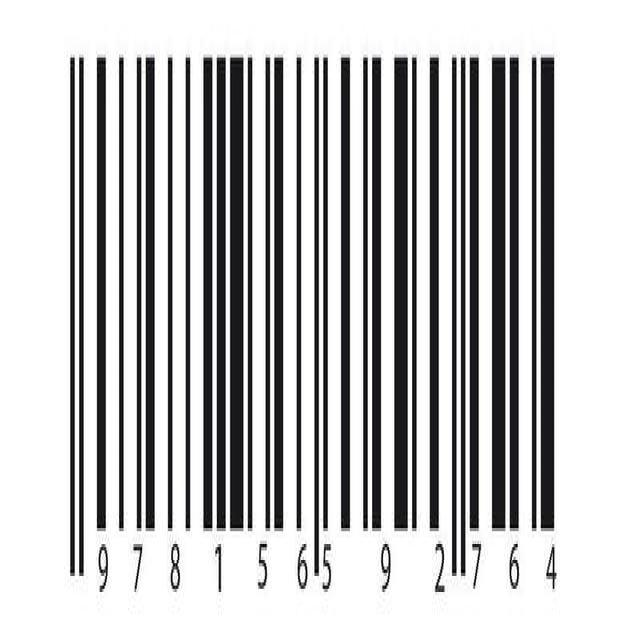Barkod: (63, 37, 564, 614)
